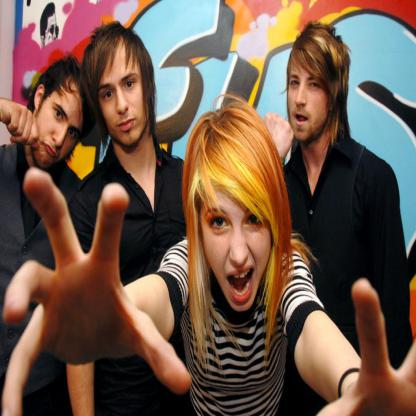face: (201, 137, 276, 314), (32, 78, 90, 171), (99, 47, 152, 148), (287, 38, 333, 143)
